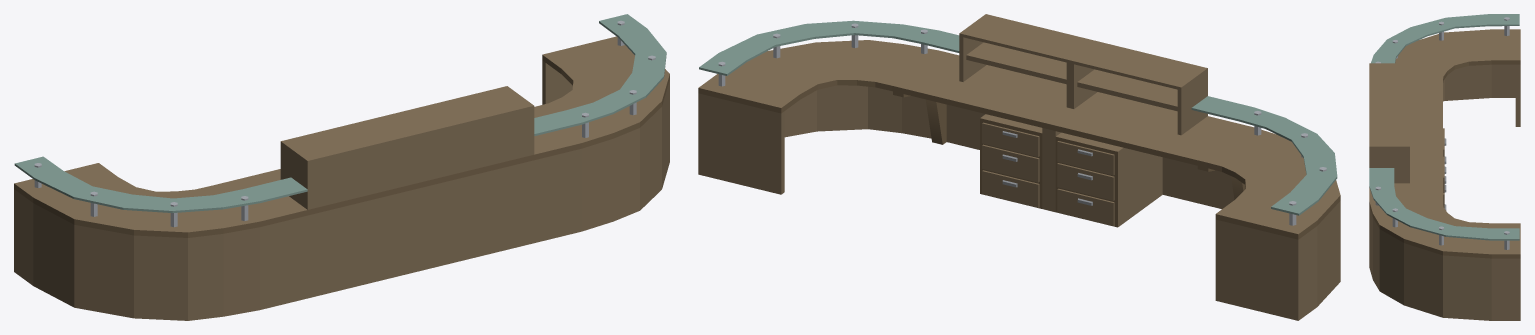
The model's file is Prop_Desk_04.glb.
3 views of the same model, side by side, from view 1: azimuth 30°, elevation 25°; view 2: azimuth 150°, elevation 25°; view 3: azimuth 270°, elevation 25° (orthographic). The views are drawn at different scales.
Parts seen in each view (by area): view 1: SM_Prop_Desk_01, SM_Prop_Desk_Glass_01; view 2: SM_Prop_Desk_01, SM_Prop_Desk_Glass_01; view 3: SM_Prop_Desk_01, SM_Prop_Desk_Glass_01.
Part boxes in pixels (left/top/right/bottom): SM_Prop_Desk_01: left=14, top=20, right=669, bottom=320; SM_Prop_Desk_Glass_01: left=14, top=14, right=666, bottom=212; SM_Prop_Desk_01: left=698, top=14, right=1340, bottom=320; SM_Prop_Desk_Glass_01: left=699, top=20, right=1337, bottom=215; SM_Prop_Desk_01: left=1369, top=17, right=1520, bottom=320; SM_Prop_Desk_Glass_01: left=1369, top=14, right=1519, bottom=240.
Bounding box in the file's own units: 6.28 × 1.35 × 1.78.
2 materials, 1 textured.
